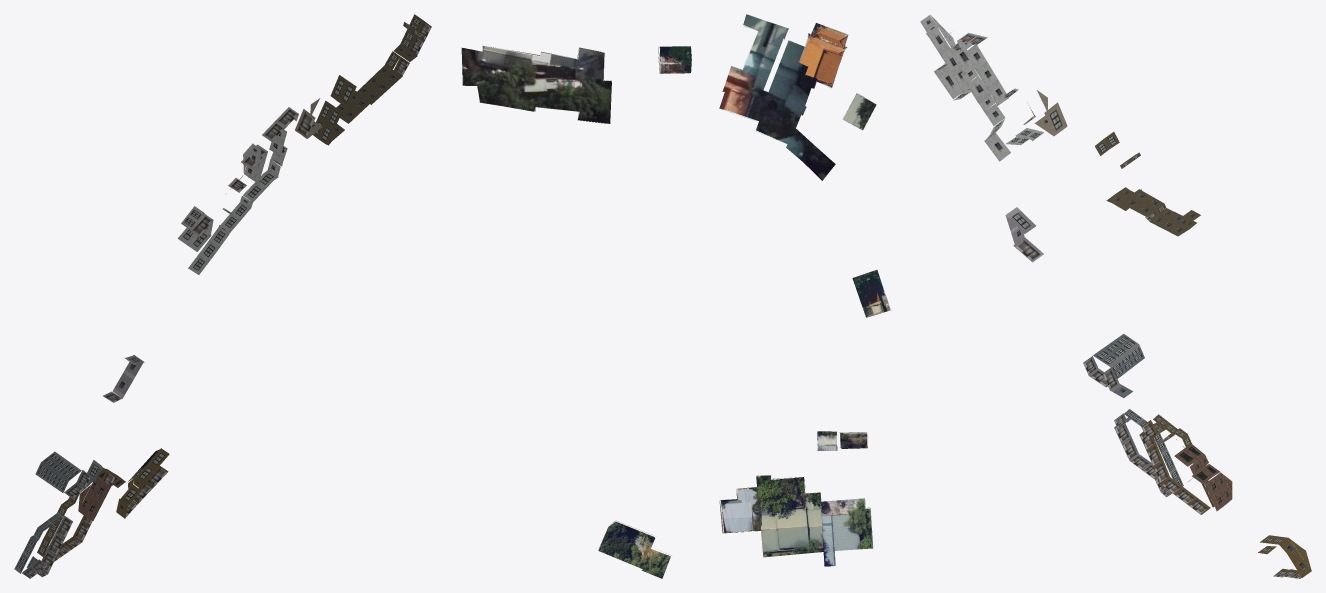
File: tile_LOD4_r9_c11.glb
3 renders of one model, left to right at view 1: azimuth 30°, elevation 25°; view 2: azimuth 150°, elevation 25°; view 3: azimuth 270°, elevation 25°, orthographic. The views are drawn at different scales.
Bounding box in the file's own units: 144 × 159 × 101.
Materials: 38 (38 with a texture image).
